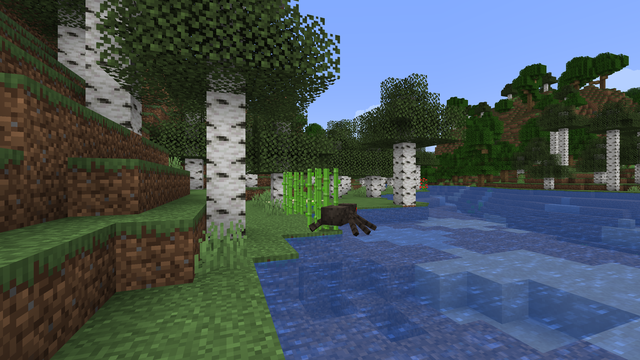araignees: (314, 200, 372, 236)
